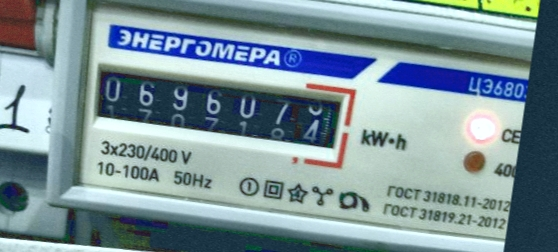0: (235, 91, 257, 123), (101, 76, 122, 106)
4: (300, 116, 321, 147)
6: (203, 87, 224, 118), (135, 80, 156, 110)
7: (269, 97, 292, 130)
9: (168, 84, 190, 115)
screen: (75, 49, 361, 172)
